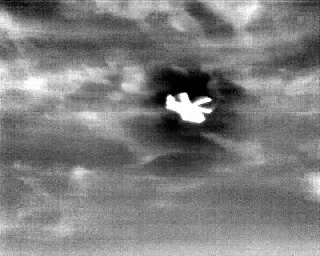HELICOPTER: (164, 87, 217, 129)
